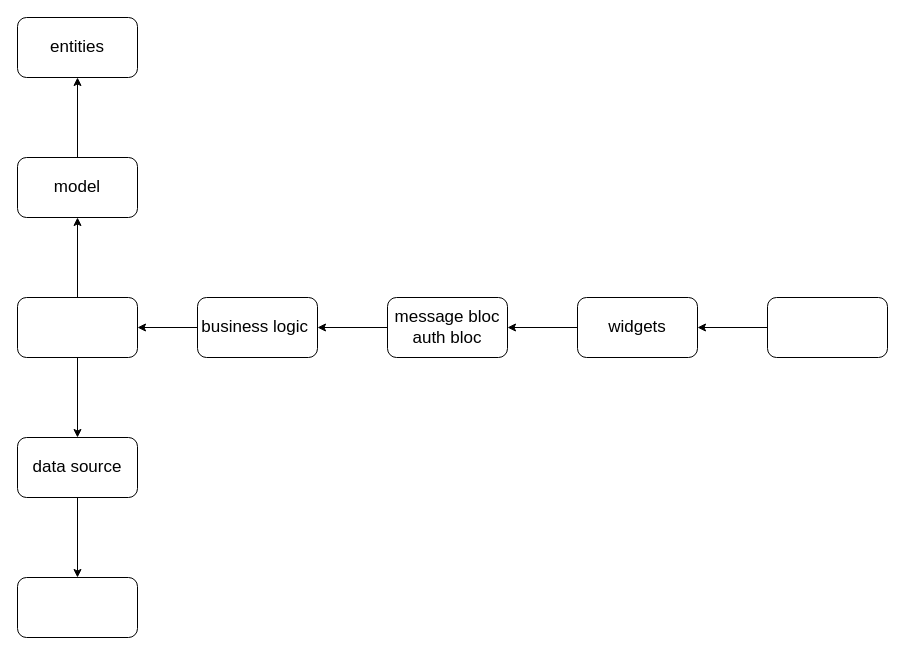
Some shapes in this 905 by 655 pixel diagram are drawn without their labels. The box of each missing label's shape, as (x1, y1, x2, y2) in pixels:
client: (16, 576, 138, 638)
data catcher: (16, 296, 138, 358)
screen: (766, 296, 888, 358)
